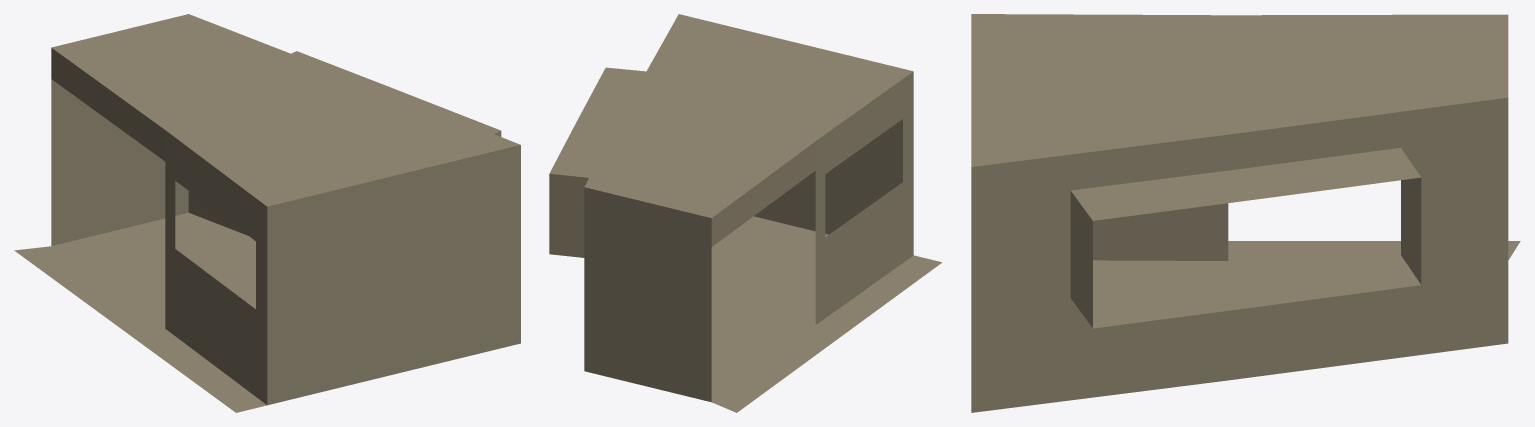
The model's file is MessHall.glb.
3 renders of one model, left to right at view 1: azimuth 30°, elevation 25°; view 2: azimuth 150°, elevation 25°; view 3: azimuth 270°, elevation 25°, orthographic. The views are drawn at different scales.
Visible parts, largest first — view 1: Messhall; view 2: Messhall; view 3: Messhall.
Boxes of the visible parts, box(x1,y1,x2,y2) form: Messhall: box(14, 14, 520, 412); Messhall: box(549, 14, 941, 412); Messhall: box(971, 14, 1520, 412).
Size of the model in its own units: 4.07 by 2.46 by 4.98.
